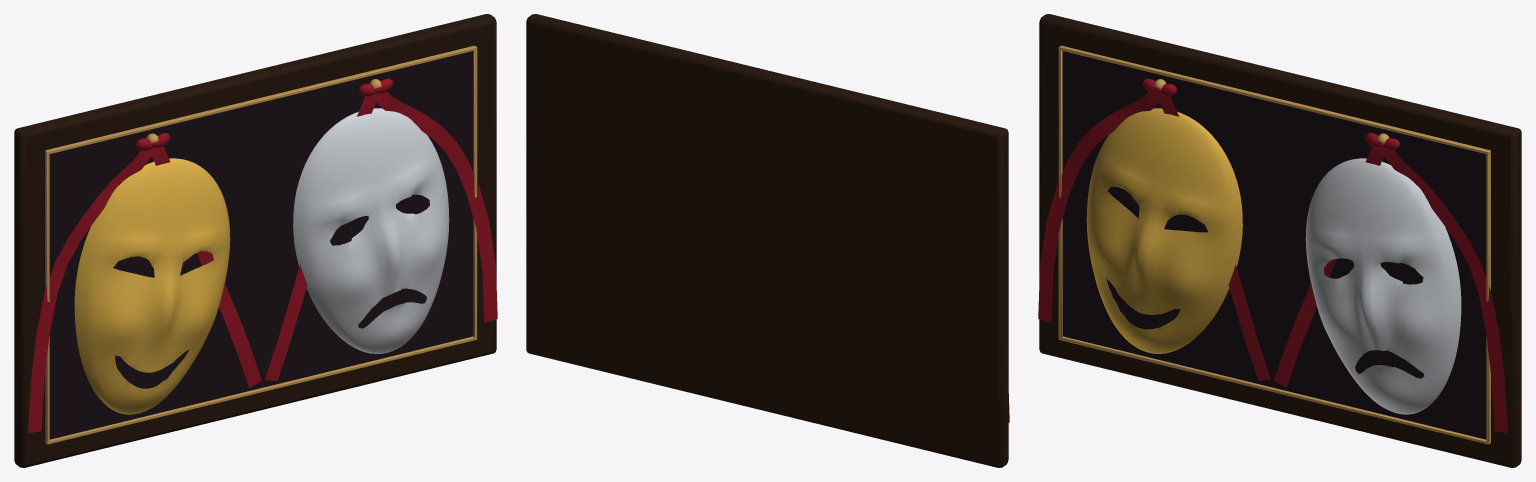
The model's file is masks.glb.
3 views of the same model, side by side, from view 1: azimuth 30°, elevation 25°; view 2: azimuth 150°, elevation 25°; view 3: azimuth 330°, elevation 25° (orthographic).
Visible parts, largest first — view 1: masks_velvet_black, masks_walnut_dark, masks_mask_silver, masks_mask_gold, masks_ribbon_red, masks_brass; view 2: masks_walnut_dark; view 3: masks_velvet_black, masks_walnut_dark, masks_mask_gold, masks_mask_silver, masks_ribbon_red, masks_brass.
Part boxes in pixels (left/top/right/bottom): masks_velvet_black: left=44, top=51, right=473, bottom=439; masks_walnut_dark: left=14, top=14, right=496, bottom=467; masks_mask_silver: left=293, top=108, right=449, bottom=353; masks_mask_gold: left=74, top=158, right=230, bottom=414; masks_ribbon_red: left=28, top=78, right=497, bottom=433; masks_brass: left=45, top=45, right=477, bottom=444; masks_walnut_dark: left=526, top=14, right=1008, bottom=467; masks_velvet_black: left=1062, top=51, right=1491, bottom=439; masks_walnut_dark: left=1039, top=14, right=1521, bottom=467; masks_mask_gold: left=1086, top=108, right=1242, bottom=353; masks_mask_silver: left=1305, top=158, right=1461, bottom=414; masks_ribbon_red: left=1038, top=78, right=1507, bottom=433; masks_brass: left=1058, top=45, right=1490, bottom=444.
Size of the model in its own units: 0.92 by 0.62 by 0.1083.
